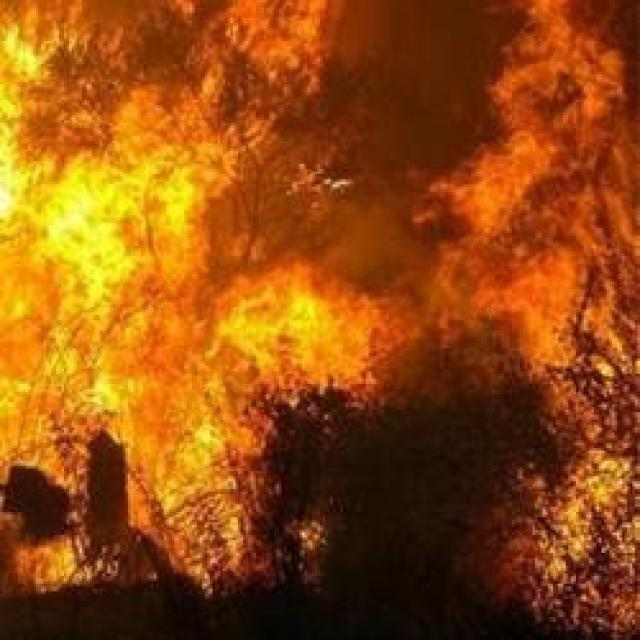Fire: (7, 160, 194, 282), (14, 288, 168, 432), (459, 158, 586, 326), (206, 276, 377, 391), (505, 27, 619, 156)
